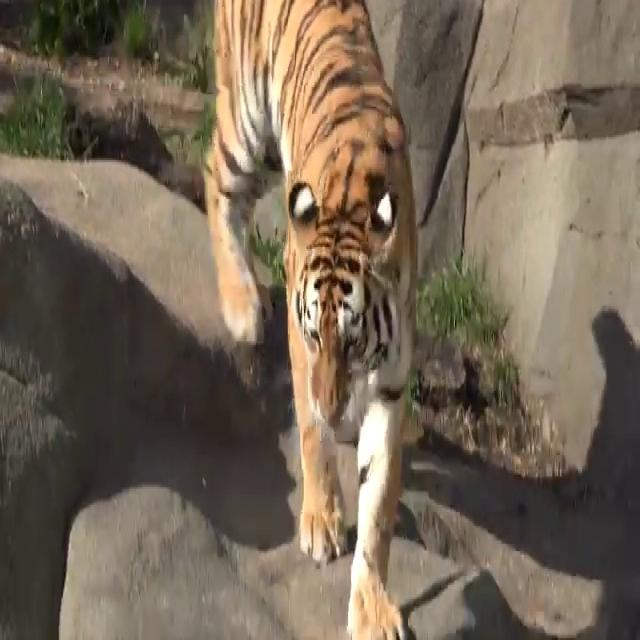tiger: (204, 0, 417, 640)
